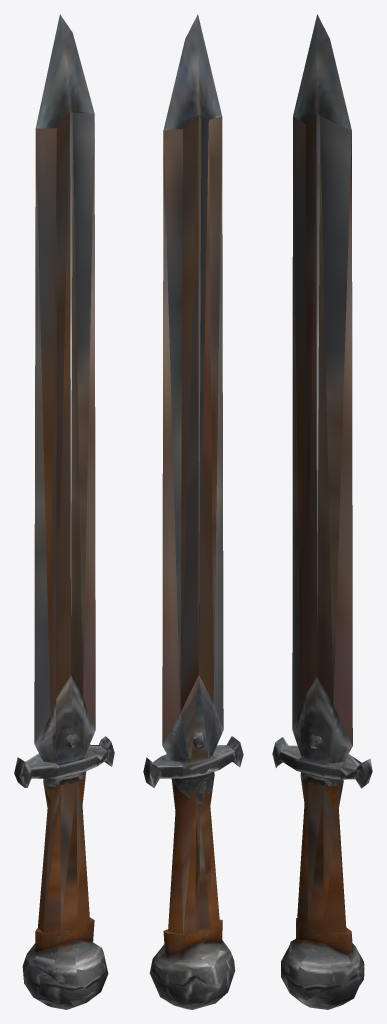
File: weap_roman_spatha_2.glb
3 renders of one model, left to right at view 1: azimuth 30°, elevation 25°; view 2: azimuth 210°, elevation 25°; view 3: azimuth 330°, elevation 25°, orthographic.
Parts seen in each view (by area): view 1: MeshyGear_weap_roman_spatha; view 2: MeshyGear_weap_roman_spatha; view 3: MeshyGear_weap_roman_spatha.
Part boxes in pixels (x1,y1,x2,y2): MeshyGear_weap_roman_spatha: (14, 14, 114, 1009); MeshyGear_weap_roman_spatha: (143, 14, 243, 1009); MeshyGear_weap_roman_spatha: (272, 14, 372, 1009).
Size of the model in its own units: 0.089 by 0.8894 by 0.0634.
1 material, 1 textured.
